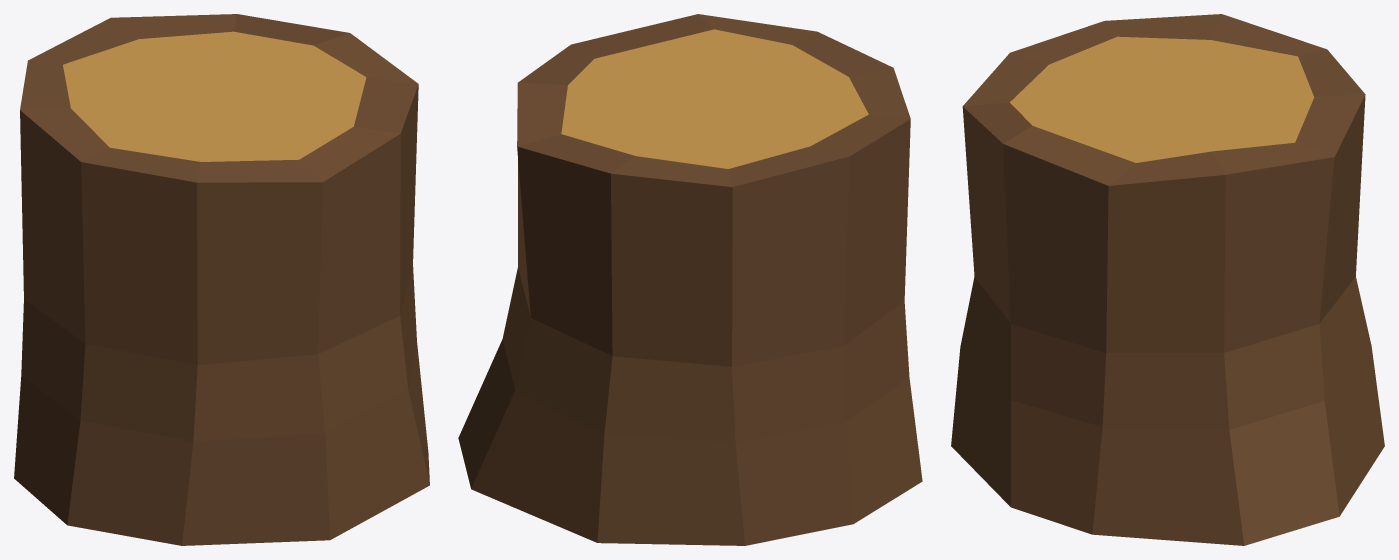
Rendered from Tree_Stump.fbx.
The picture shows the model from 3 angles, left to right: view 1: azimuth 30°, elevation 25°; view 2: azimuth 150°, elevation 25°; view 3: azimuth 270°, elevation 25°; orthographic projection. The views are drawn at different scales.
Visible parts, largest first — view 1: Tree_Stump; view 2: Tree_Stump; view 3: Tree_Stump.
Boxes of the visible parts, x1,y1,x2,y2 form: Tree_Stump: (14,14,429,545); Tree_Stump: (458,14,922,545); Tree_Stump: (951,14,1384,545).
Bounding box in the file's own units: 43.12 × 39.26 × 42.75.
